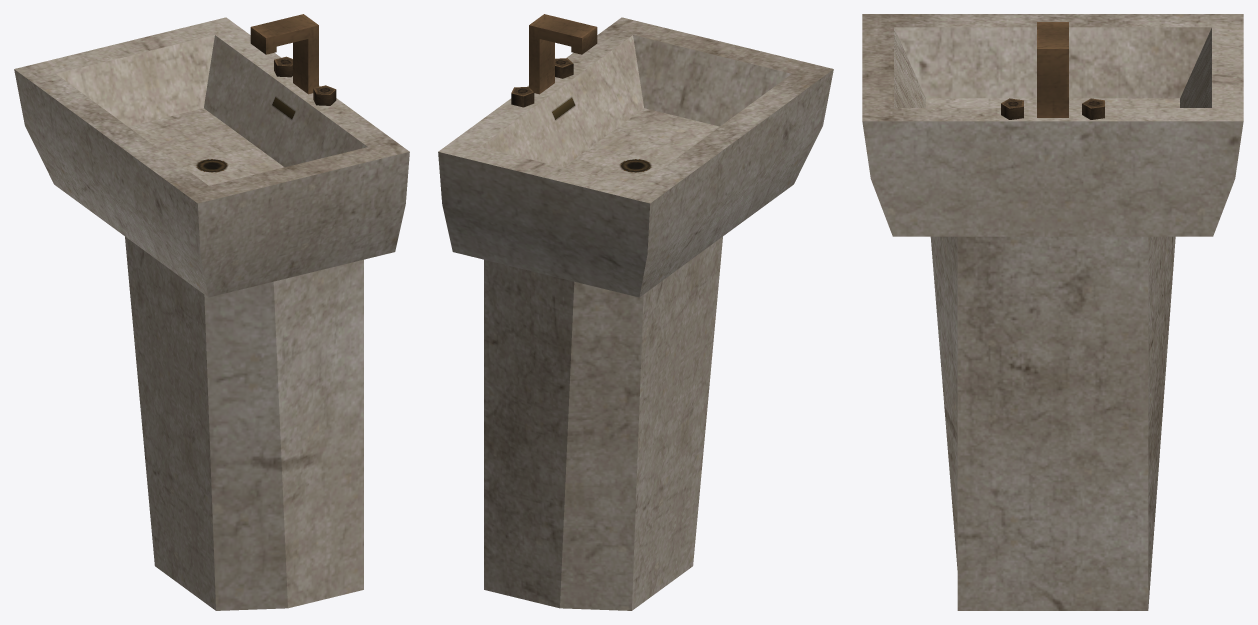
File: sink.fbx
3 renders of one model, left to right at view 1: azimuth 30°, elevation 25°; view 2: azimuth 150°, elevation 25°; view 3: azimuth 270°, elevation 25°, orthographic. The views are drawn at different scales.
Parts seen in each view (by area): view 1: sink.001; view 2: sink.001; view 3: sink.001.
Part boxes in pixels (x1,y1,x2,y2): sink.001: (14, 14, 409, 610); sink.001: (438, 14, 833, 610); sink.001: (862, 14, 1243, 610).
Size of the model in its own units: 0.4434 by 1.08 by 0.6651.
2 materials, 2 textured.
